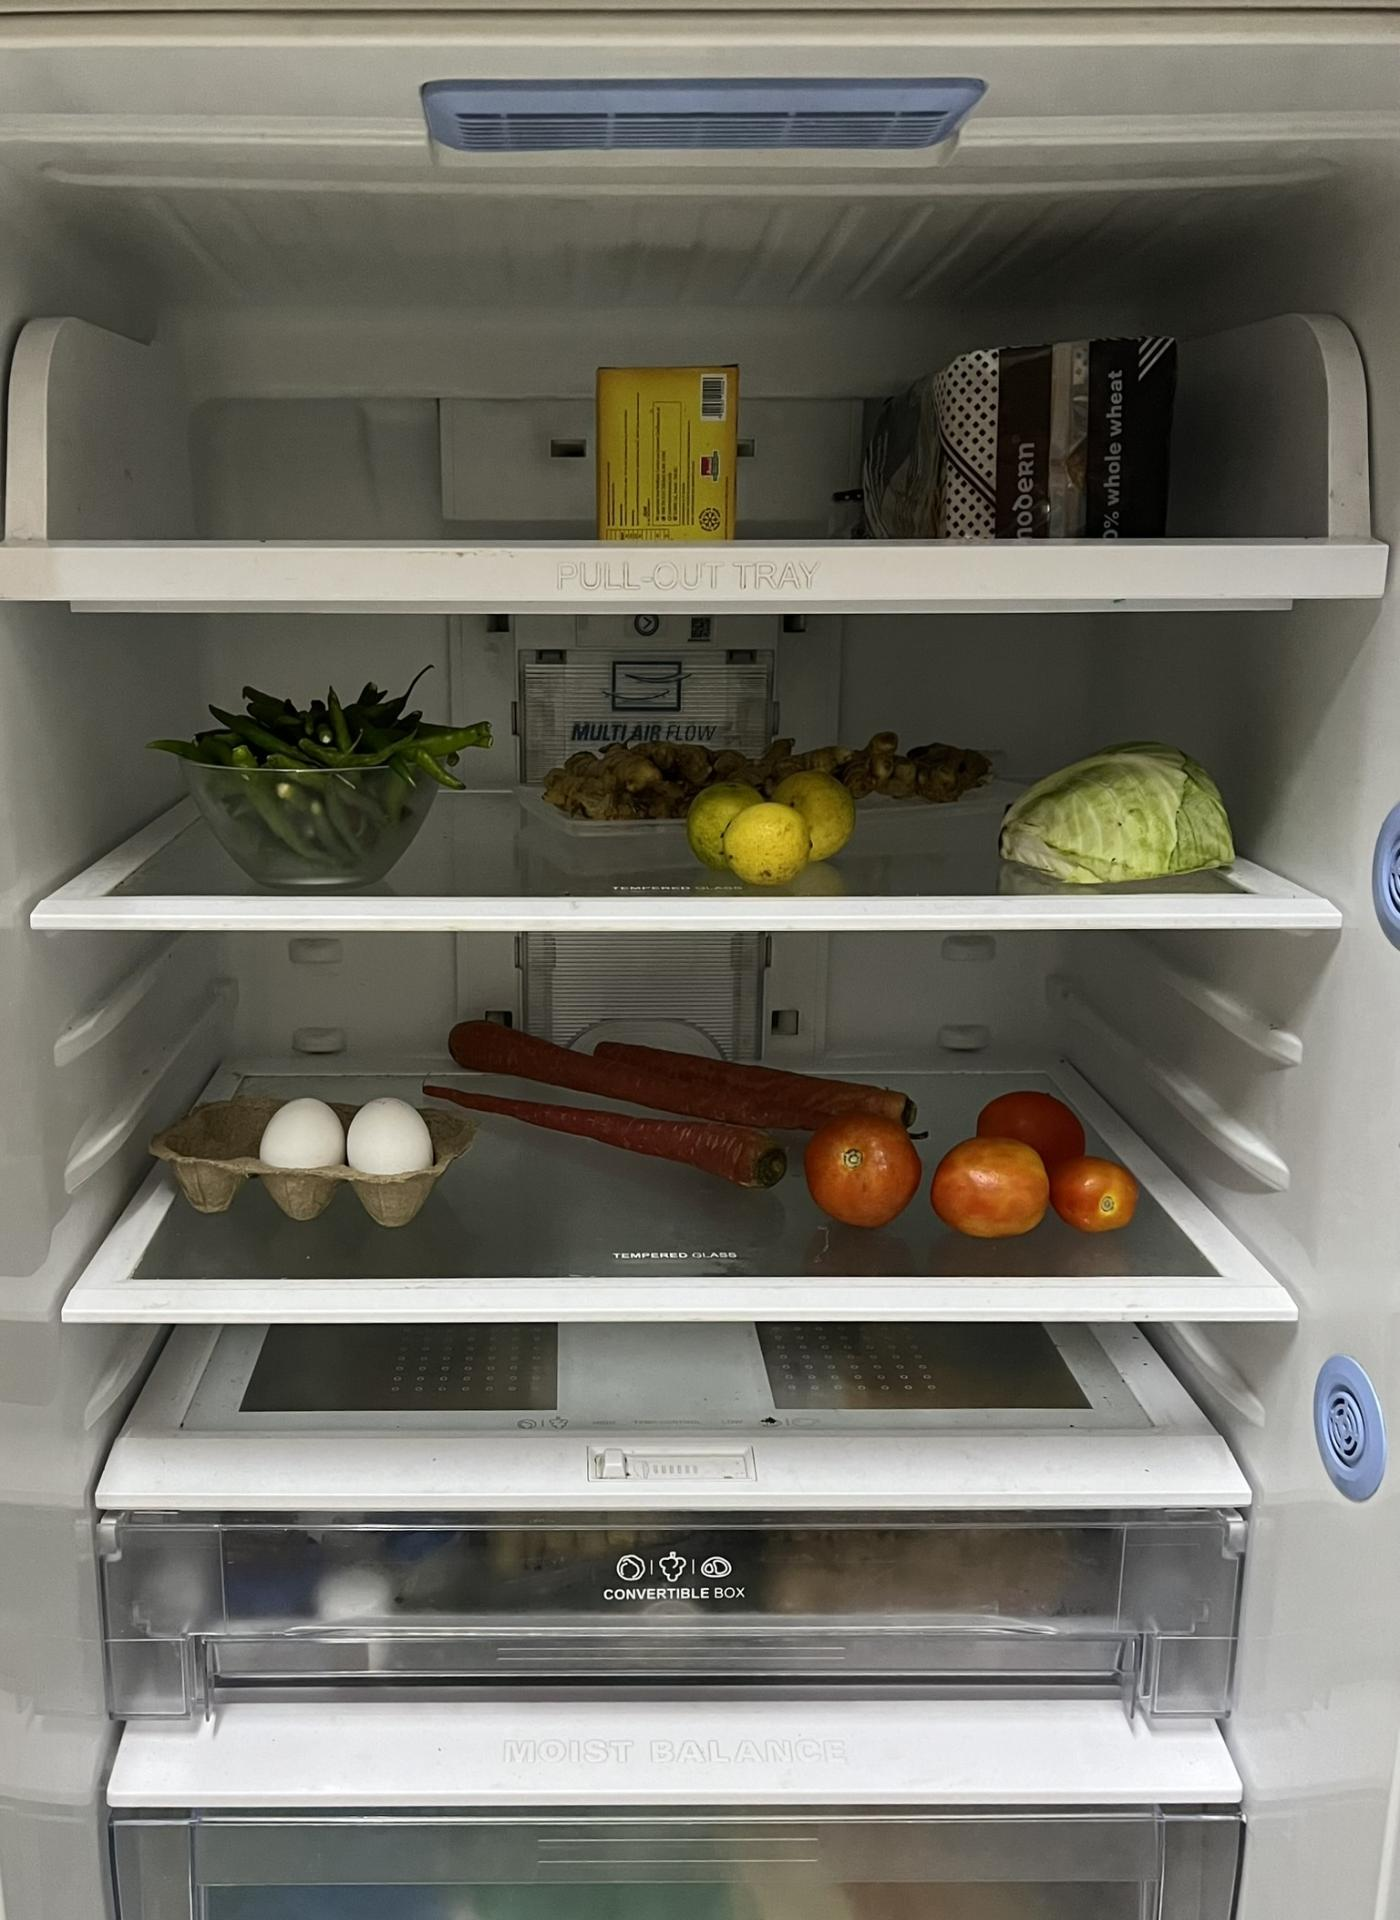bread: (848, 323, 1181, 540)
butter: (595, 359, 747, 537)
cabbage: (1002, 748, 1243, 888)
carrots: (446, 1029, 924, 1200)
chillies: (177, 671, 482, 862)
egg: (270, 1087, 446, 1231)
ginger: (549, 741, 994, 802)
lemon: (686, 768, 862, 885)
tomato: (807, 1087, 1135, 1236)
